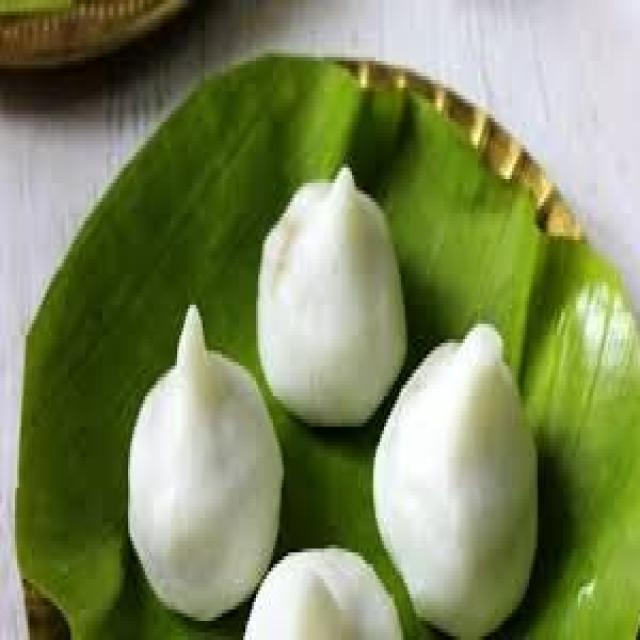poorna kolukattai: (108, 139, 562, 640)
